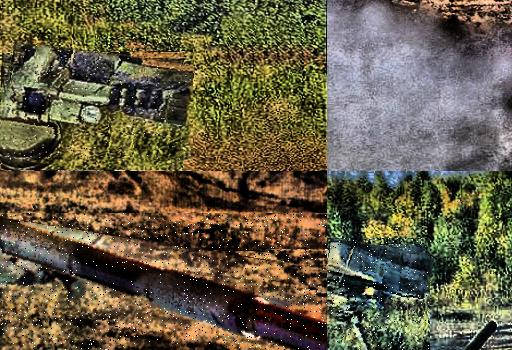tanks: (1, 219, 328, 350), (4, 42, 193, 161), (328, 240, 430, 350), (462, 323, 497, 350)
